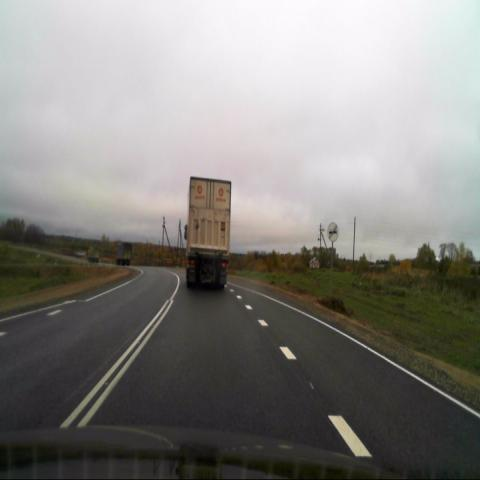3_21: (327, 222, 339, 242)
